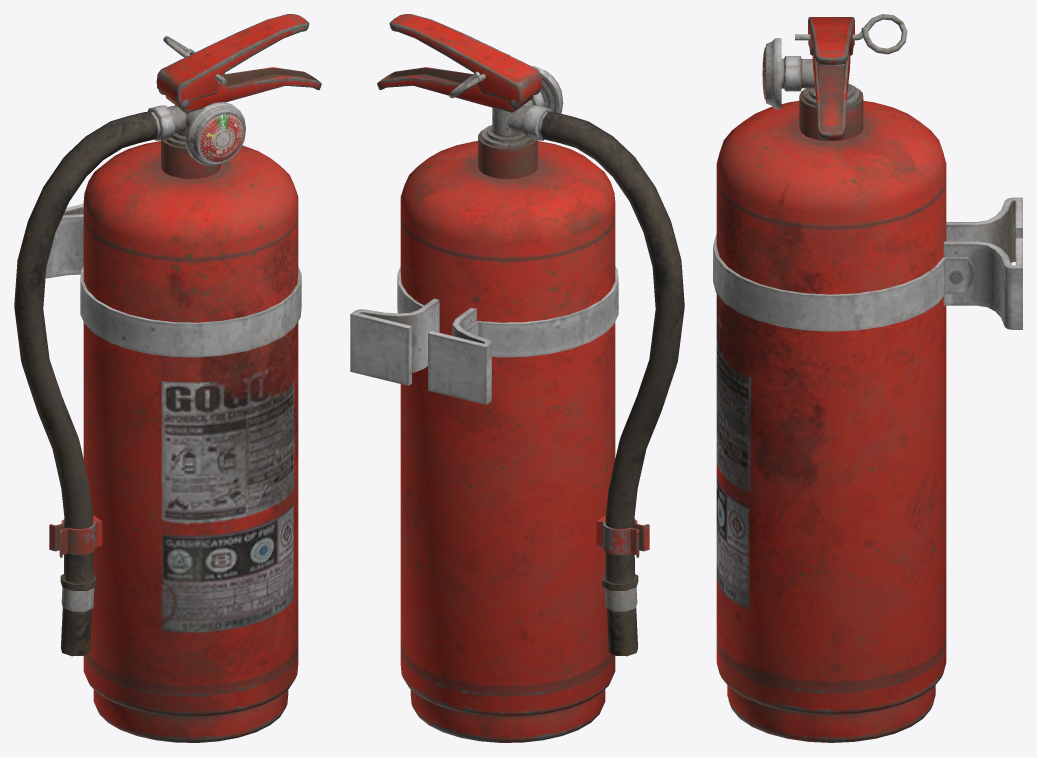
File: extinguisherWall.FBX
3 views of the same model, side by side, from view 1: azimuth 30°, elevation 25°; view 2: azimuth 150°, elevation 25°; view 3: azimuth 270°, elevation 25° (orthographic). The views are drawn at different scales.
Parts seen in each view (by area): view 1: SM_ExtinguisherWall; view 2: SM_ExtinguisherWall; view 3: SM_ExtinguisherWall.
Part boxes in pixels (x1=…): SM_ExtinguisherWall: x1=14, y1=14, x2=321, y2=742; SM_ExtinguisherWall: x1=350, y1=14, x2=684, y2=742; SM_ExtinguisherWall: x1=713, y1=14, x2=1022, y2=742.
Size of the model in its own units: 28.54 by 59.52 by 23.75.
1 material, 1 textured.
